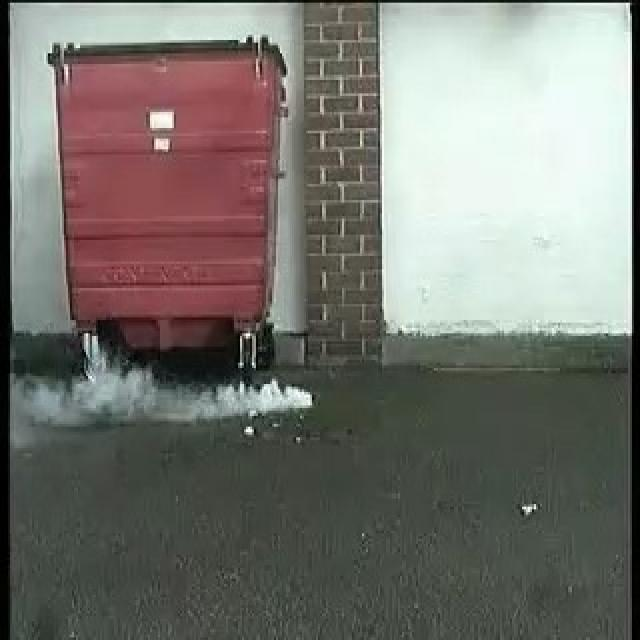smoke: (21, 349, 316, 432)
